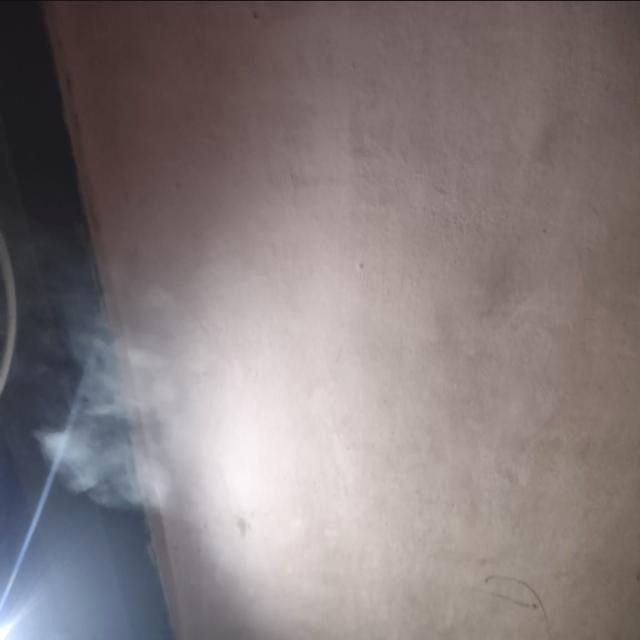smoke: (50, 321, 217, 529)
